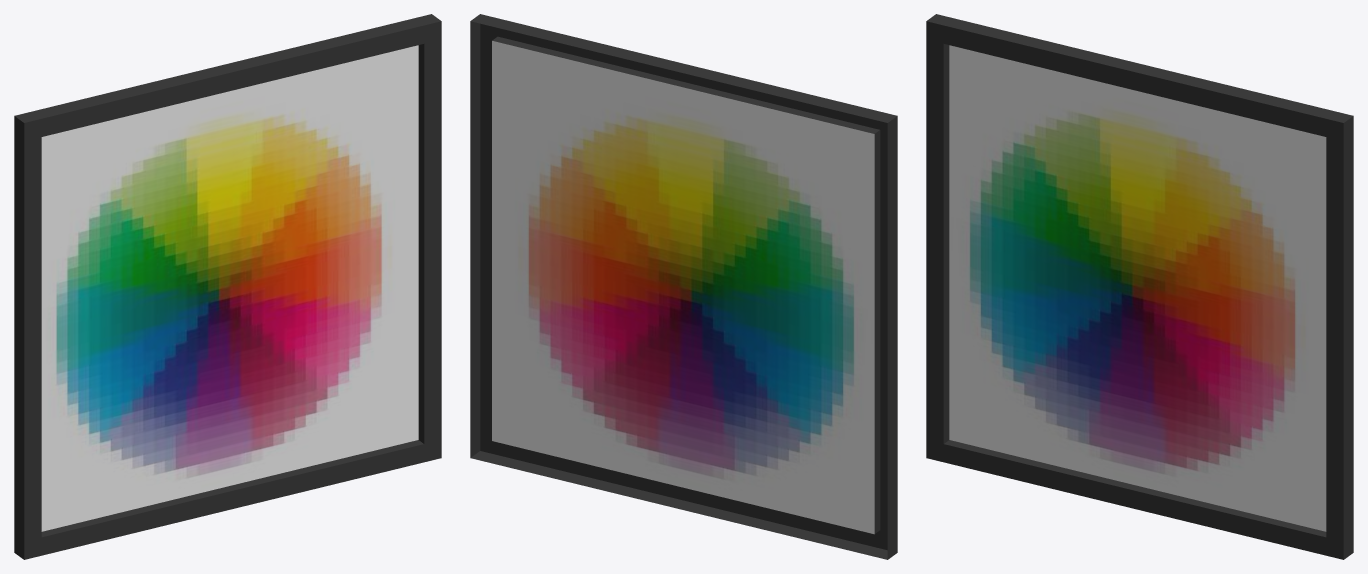
The model's file is CuadroArribaDeSublimadora.glb.
The picture shows the model from 3 angles, left to right: view 1: azimuth 30°, elevation 25°; view 2: azimuth 150°, elevation 25°; view 3: azimuth 330°, elevation 25°; orthographic projection.
Parts seen in each view (by area): view 1: CuadroSublimadora; view 2: CuadroSublimadora; view 3: CuadroSublimadora.
Boxes of the visible parts, bbox=[...] form: CuadroSublimadora: bbox=[14, 14, 441, 559]; CuadroSublimadora: bbox=[470, 14, 897, 559]; CuadroSublimadora: bbox=[926, 14, 1353, 559].
Bounding box in the file's own units: 3.42 × 3.42 × 0.1403.
2 materials, 1 textured.
